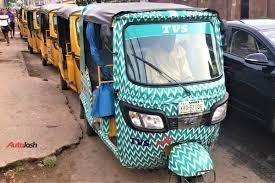keke: (44, 0, 270, 181), (81, 1, 233, 183)
